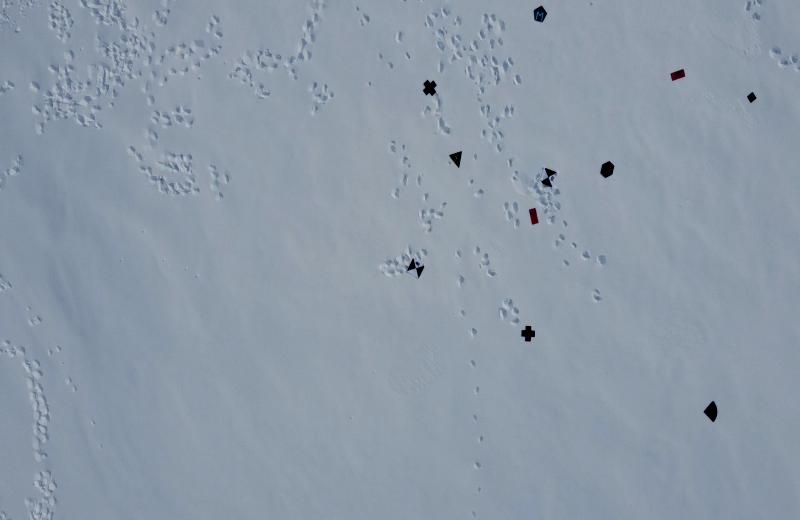Cross: (421, 80, 439, 98), (520, 325, 536, 343)
Hexagon: (598, 160, 615, 179)
Pentagon: (532, 5, 547, 24)
Quarter Circle: (703, 399, 721, 423)
Rectangle: (529, 208, 540, 226), (670, 69, 686, 81)
Square: (746, 91, 757, 104)
Triangle: (447, 150, 465, 168)
